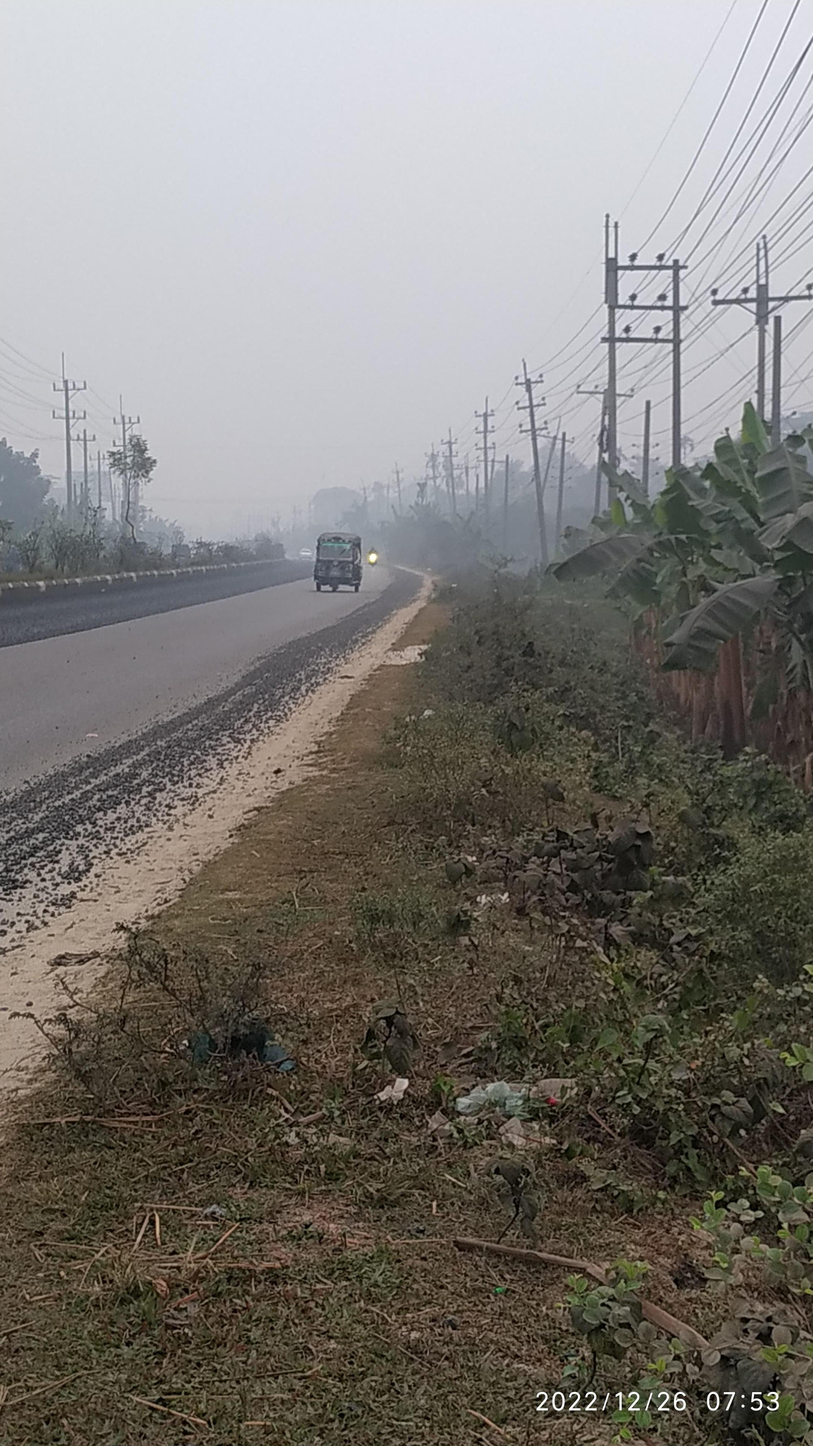Bike: (366, 538, 391, 575)
